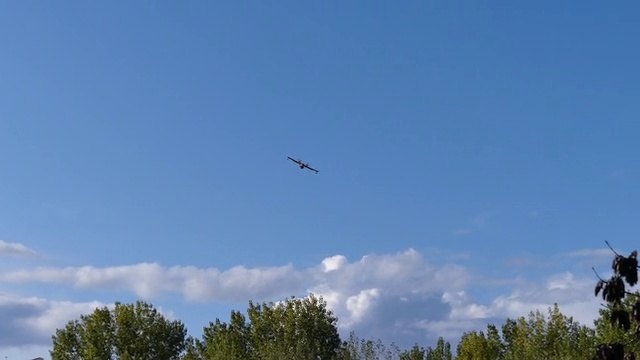plane: (286, 155, 321, 173)
